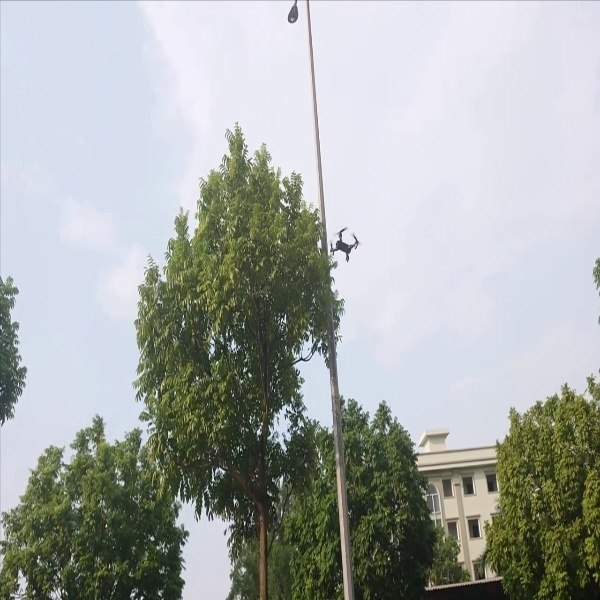drone: (326, 224, 361, 265)
